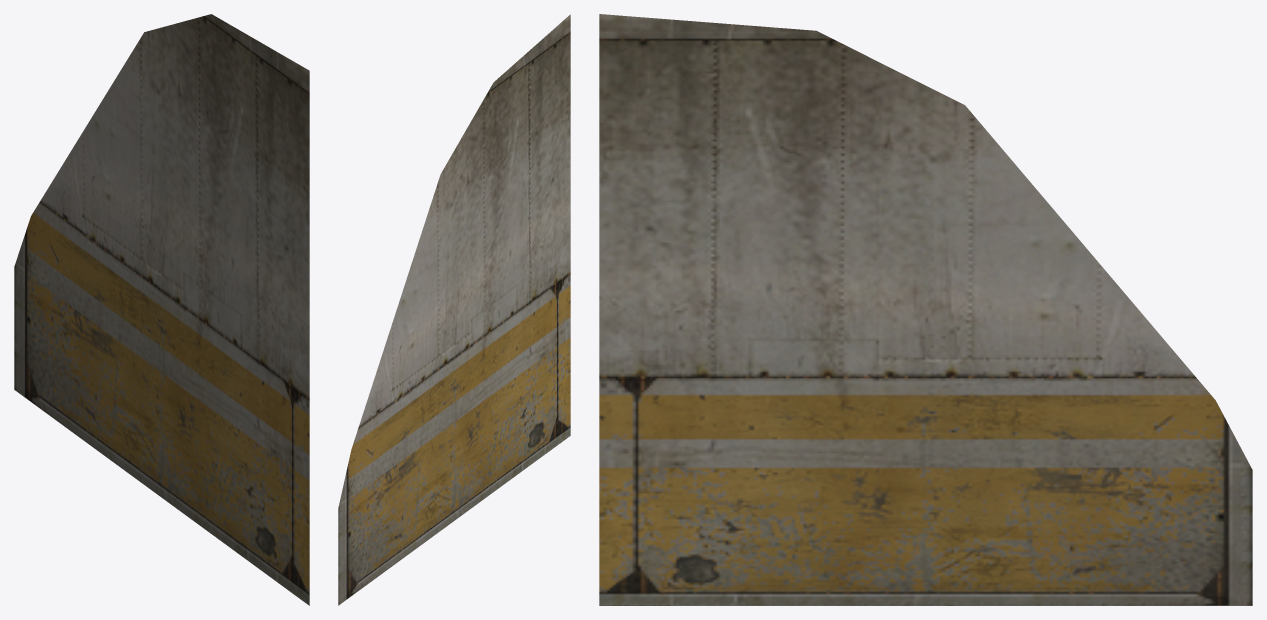
File: Wall_K_Short2mts_03.fbx
3 renders of one model, left to right at view 1: azimuth 30°, elevation 25°; view 2: azimuth 150°, elevation 25°; view 3: azimuth 270°, elevation 25°, orthographic. The views are drawn at different scales.
Visible parts, largest first — view 1: Wall_F_Short2mts_03; view 2: Wall_F_Short2mts_03; view 3: Wall_F_Short2mts_03.
Part boxes in pixels (x1=…): Wall_F_Short2mts_03: x1=14, y1=14, x2=309, y2=605; Wall_F_Short2mts_03: x1=338, y1=14, x2=570, y2=605; Wall_F_Short2mts_03: x1=599, y1=14, x2=1252, y2=605.
Size of the model in its own units: 0.000244 by 200 by 200.
